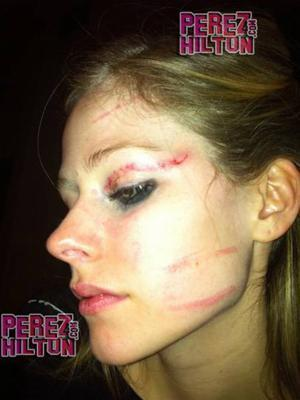Fire: (103, 143, 199, 196)
